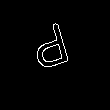P_S: (31, 20, 79, 79)
